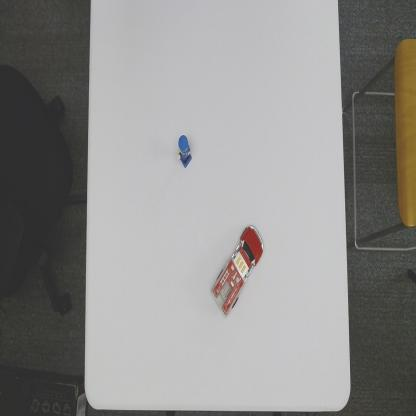Firetruck: (209, 223, 266, 319)
